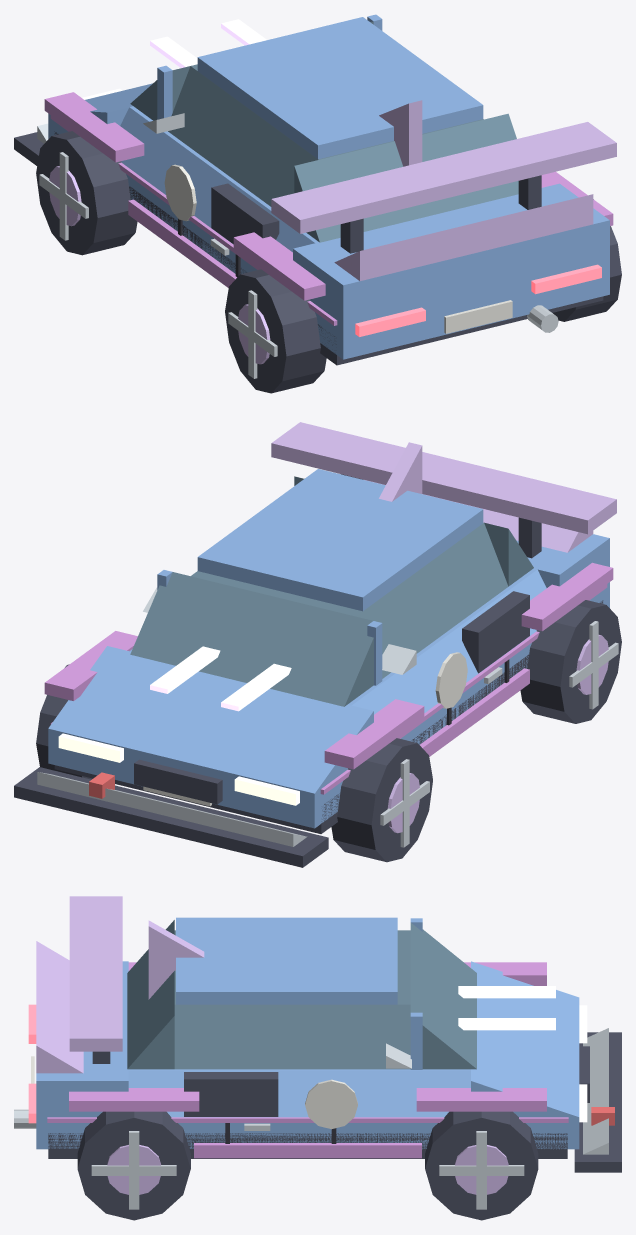
The model's file is carbon_comet.glb.
3 renders of one model, top to bottom at view 1: azimuth 30°, elevation 25°; view 2: azimuth 150°, elevation 25°; view 3: azimuth 270°, elevation 25°, orthographic. The views are drawn at different scales.
Visible parts, largest first — view 1: Roof.281, Tail.081, RearWing.044, CabinSideL.078, Body.281, RearWindow.181, Ducktail.060, Wheel_RL.241, Wheel_FL.241, ShoulderL.078, Arch-1False.157, Arch-1True.157 (+28 smaller); view 2: Nose.078, Roof.281, Windshield.181, RearWing.044, CabinSideL.078, Body.281, Splitter.048, Wheel_FL.241, Wheel_RL.241, ShoulderL.078, Bumper.277, AirIntake-1.044 (+28 smaller); view 3: Roof.281, CabinSideR.078, Nose.078, RearWing.044, Wheel_RR.241, Wheel_FR.241, ShoulderR.078, Windshield.181, Body.281, RearWindow.181, Ducktail.060, Tail.081 (+23 smaller).
Boxes of the visible parts, box(x1,y1,x2,y2) form: Roof.281: box(197, 17, 483, 159); Tail.081: box(293, 183, 609, 324); RearWing.044: box(271, 122, 616, 233); CabinSideL.078: box(168, 66, 318, 206); Body.281: box(48, 113, 609, 359); RearWindow.181: box(294, 113, 518, 242); Ducktail.060: box(334, 194, 593, 280); Wheel_RL.241: box(225, 269, 326, 393); Wheel_FL.241: box(36, 131, 137, 255); ShoulderL.078: box(120, 107, 314, 252); Arch-1False.157: box(44, 92, 144, 162); Arch-1True.157: box(233, 232, 325, 300); Nose.078: box(48, 646, 373, 793); Roof.281: box(197, 469, 483, 611); Windshield.181: box(130, 572, 373, 706); RearWing.044: box(271, 422, 616, 534); CabinSideL.078: box(356, 523, 508, 678); Body.281: box(48, 582, 609, 828); Splitter.048: box(14, 767, 328, 867); Wheel_FL.241: box(331, 738, 432, 862); Wheel_RL.241: box(520, 600, 621, 723); ShoulderL.078: box(352, 569, 546, 714); Bumper.277: box(37, 772, 307, 846); AirIntake-1.044: box(462, 591, 529, 673); Roof.281: box(176, 917, 397, 1004); CabinSideR.078: box(174, 1004, 410, 1069); Nose.078: box(471, 961, 579, 1117); RearWing.044: box(69, 896, 122, 1051); Wheel_RR.241: box(77, 1111, 190, 1220); Wheel_FR.241: box(425, 1111, 538, 1220); ShoulderR.078: box(128, 1071, 470, 1117); Windshield.181: box(410, 923, 476, 1069); Body.281: box(36, 1117, 579, 1149); RearWindow.181: box(127, 920, 174, 1069); Ducktail.060: box(36, 941, 83, 1073); Tail.081: box(36, 961, 128, 1117).
Bounding box in the file's own units: 3.1 × 2.08 × 5.15.
